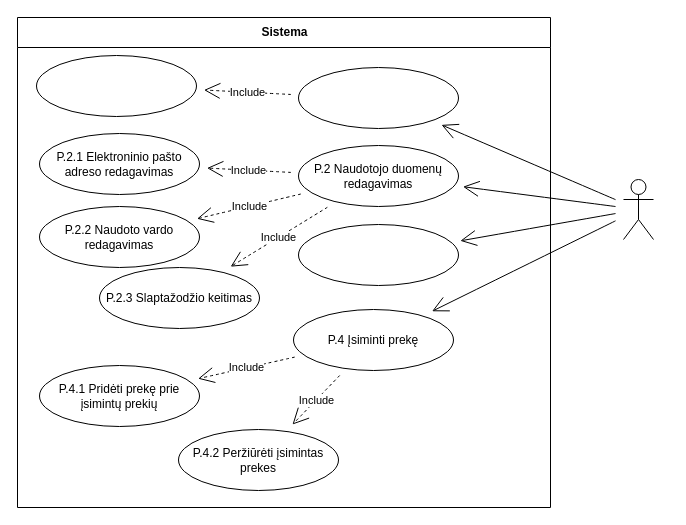
The diagram is 686 pixels wide and 525 high, and some of its shapes have lost their labels. The box of each missing label's shape, as (x1, y1, x2, y2) in pixels:
P.1 Prisijungimo sistema: (298, 66, 458, 128)
P.1.1 Atsijungimas: (36, 54, 196, 116)
P.3 Paskyros šalinimas: (298, 224, 458, 286)
Prisijungęs Naudotojas: (622, 178, 654, 240)
